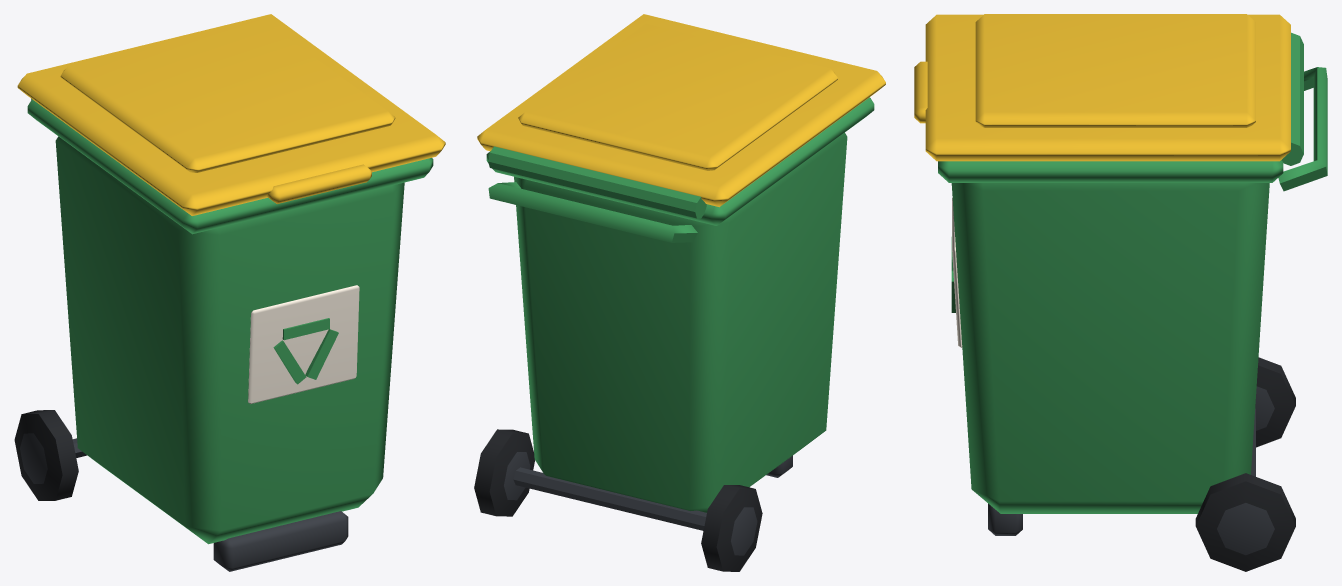
File: prop_bin.glb
3 views of the same model, side by side, from view 1: azimuth 30°, elevation 25°; view 2: azimuth 150°, elevation 25°; view 3: azimuth 270°, elevation 25° (orthographic). The views are drawn at different scales.
Parts seen in each view (by area): view 1: prop_bin; view 2: prop_bin; view 3: prop_bin.
Part boxes in pixels (x1=…): prop_bin: x1=14, y1=14, x2=445, y2=571; prop_bin: x1=474, y1=14, x2=885, y2=571; prop_bin: x1=914, y1=14, x2=1327, y2=571.
Size of the model in its own units: 0.6382 by 0.98 by 0.826.
